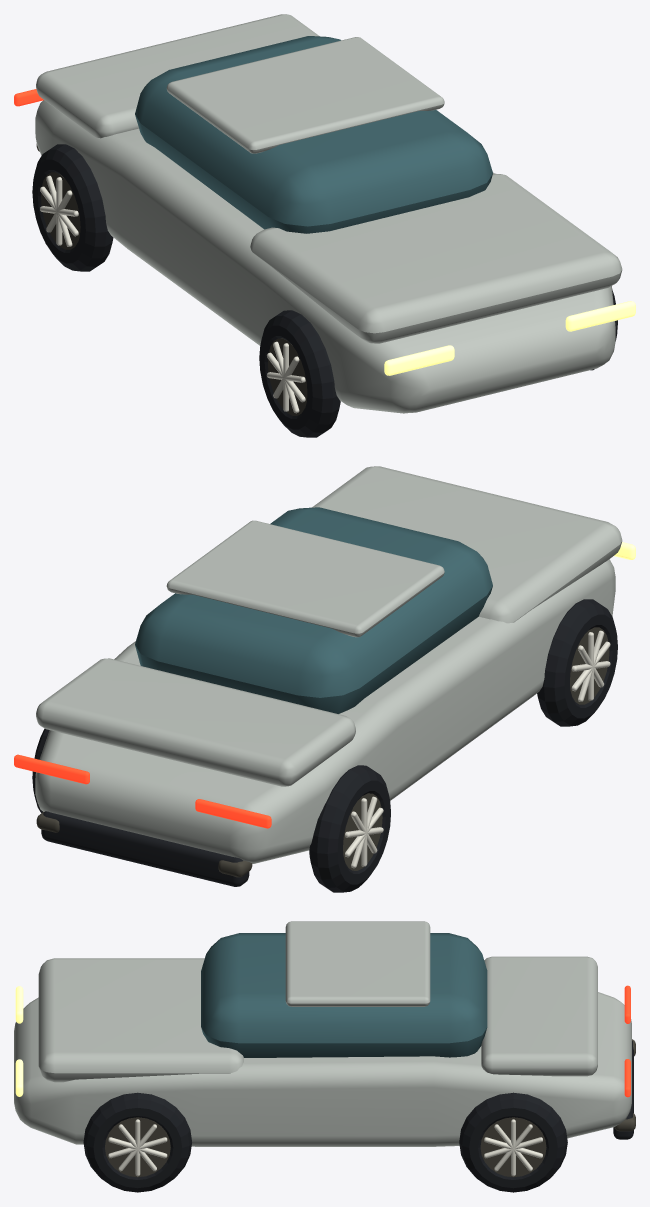
File: touring-coupe.glb
The picture shows the model from 3 angles, top to bottom: view 1: azimuth 30°, elevation 25°; view 2: azimuth 150°, elevation 25°; view 3: azimuth 270°, elevation 25°; orthographic projection. The views are drawn at different scales.
Visible parts, largest first — view 1: Sculpted lower body, Hood, Glass canopy, Roof, Rear deck, Torus, Torus.001, LED headlight.001, LED headlight, Cylinder.001, Cylinder; view 2: Sculpted lower body, Glass canopy, Rear deck, Hood, Roof, Rear diffuser, Torus.001, Torus, Cylinder, Cylinder.001, Rear lamp, Rear lamp.001; view 3: Sculpted lower body, Glass canopy, Hood, Rear deck, Roof, Torus.003, Torus.002, Cylinder.002, Cylinder.003.
Part boxes in pixels (x1,y1,x2,y2): Sculpted lower body: (35, 100, 615, 413); Hood: (250, 173, 622, 343); Glass canopy: (135, 36, 492, 233); Roof: (166, 37, 444, 153); Rear deck: (36, 14, 319, 138); Torus: (259, 310, 340, 437); Torus.001: (32, 144, 113, 271); LED headlight.001: (565, 301, 635, 331); LED headlight: (384, 345, 454, 375); Cylinder.001: (41, 172, 80, 249); Cylinder: (268, 338, 307, 415); Sculpted lower body: (35, 559, 615, 863); Glass canopy: (135, 507, 492, 713); Rear deck: (36, 658, 355, 786); Hood: (312, 466, 622, 623); Roof: (166, 520, 444, 637); Rear diffuser: (41, 811, 249, 886); Torus.001: (309, 765, 390, 892); Torus: (537, 599, 617, 726); Cylinder: (570, 627, 609, 704); Cylinder.001: (343, 793, 382, 870); Rear lamp: (195, 799, 271, 828); Rear lamp.001: (14, 754, 89, 784); Sculpted lower body: (14, 992, 631, 1146); Glass canopy: (201, 933, 487, 1057); Hood: (38, 958, 243, 1082); Rear deck: (481, 956, 597, 1076); Roof: (285, 921, 430, 1006); Torus.003: (459, 1092, 567, 1192); Torus.002: (83, 1092, 191, 1192); Cylinder.002: (105, 1117, 170, 1177); Cylinder.003: (480, 1117, 546, 1177).
Size of the model in its own units: 2.15 by 1.41 by 4.52.
